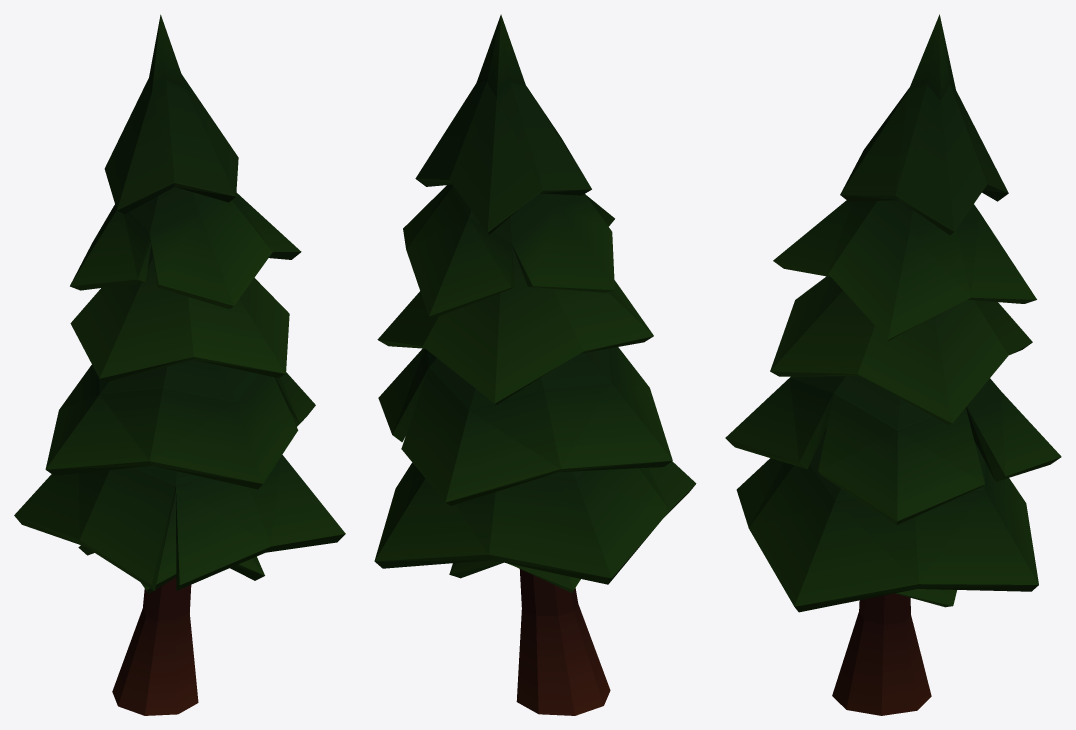
Rendered from Twisted Pine 3.fbx.
The picture shows the model from 3 angles, left to right: view 1: azimuth 30°, elevation 25°; view 2: azimuth 150°, elevation 25°; view 3: azimuth 270°, elevation 25°; orthographic projection. The views are drawn at different scales.
Parts seen in each view (by area): view 1: Pine Tree 3; view 2: Pine Tree 3; view 3: Pine Tree 3.
Part boxes in pixels (x1=…): Pine Tree 3: x1=14, y1=14, x2=345, y2=715; Pine Tree 3: x1=374, y1=14, x2=696, y2=715; Pine Tree 3: x1=725, y1=14, x2=1061, y2=715.
Bounding box in the file's own units: 161 × 369 × 161.
